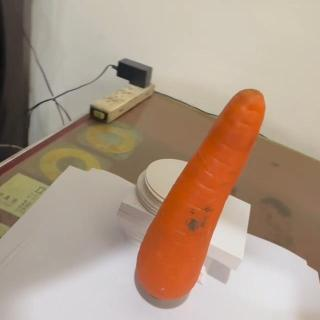carrot: (135, 86, 267, 300)
